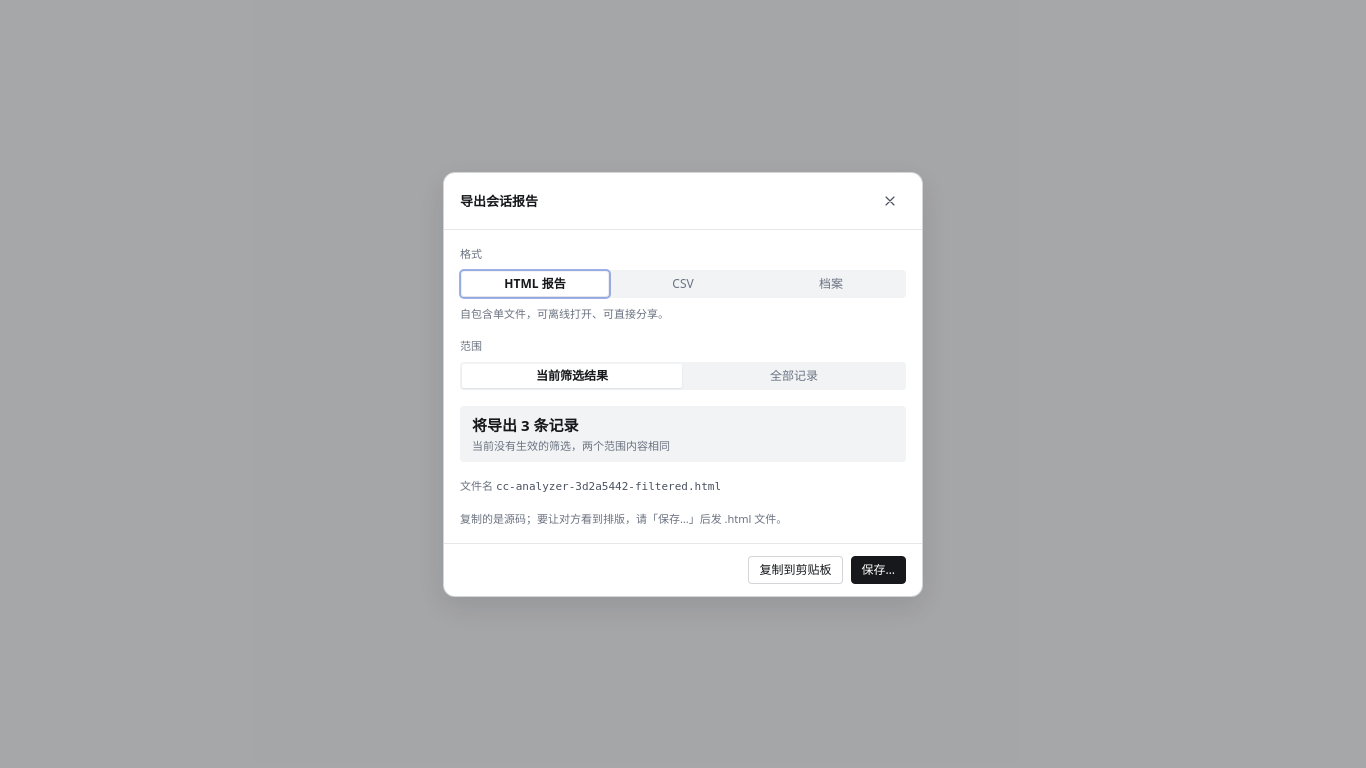
Test: copies the CSV without its BOM and confirms in place
This screenshot has width=1366, height=768.
What coordinates should you click on to do the following:
click the tab "CSV"
I would click on:
 (683, 284)
Its box is [610,272,756,296].
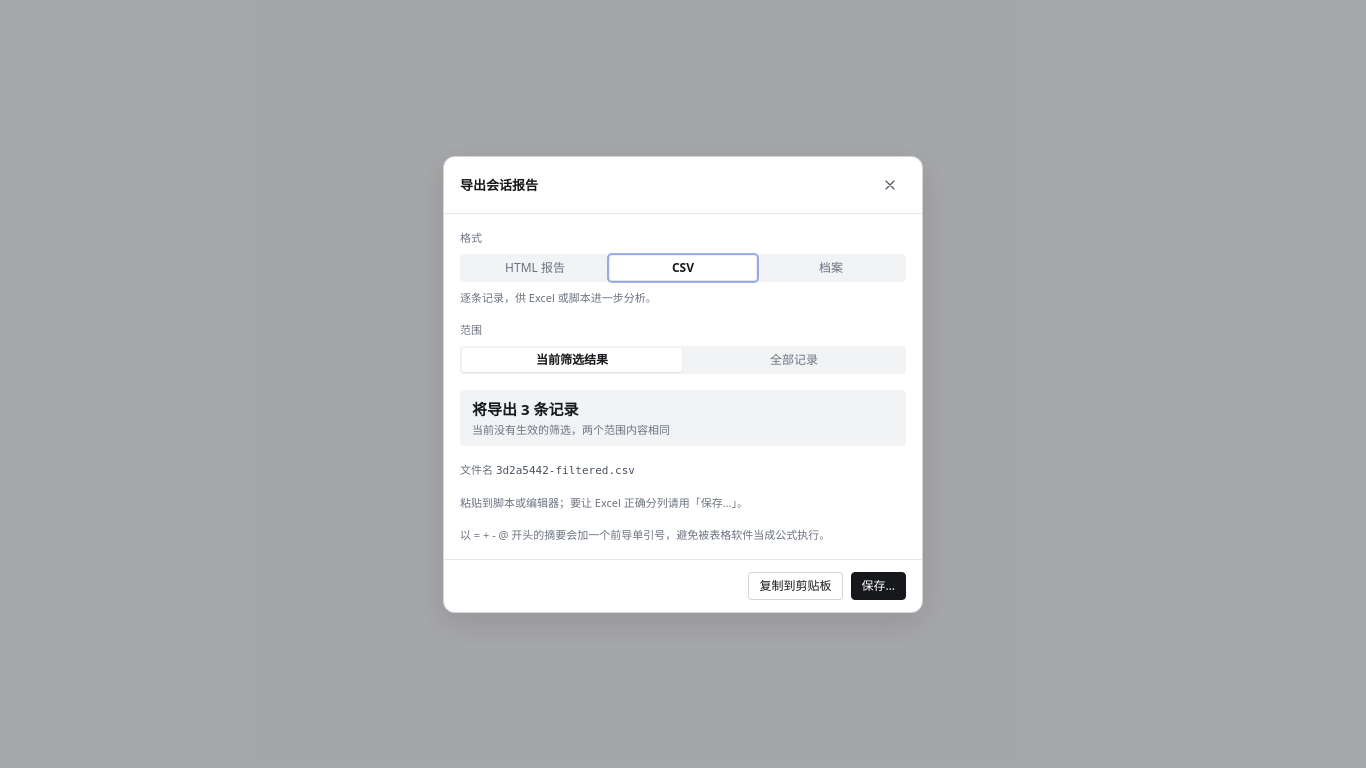
What coordinates should you click on to do the following:
click the button "复制到剪贴板"
I would click on:
 (796, 586)
Its box is [748,572,842,600].
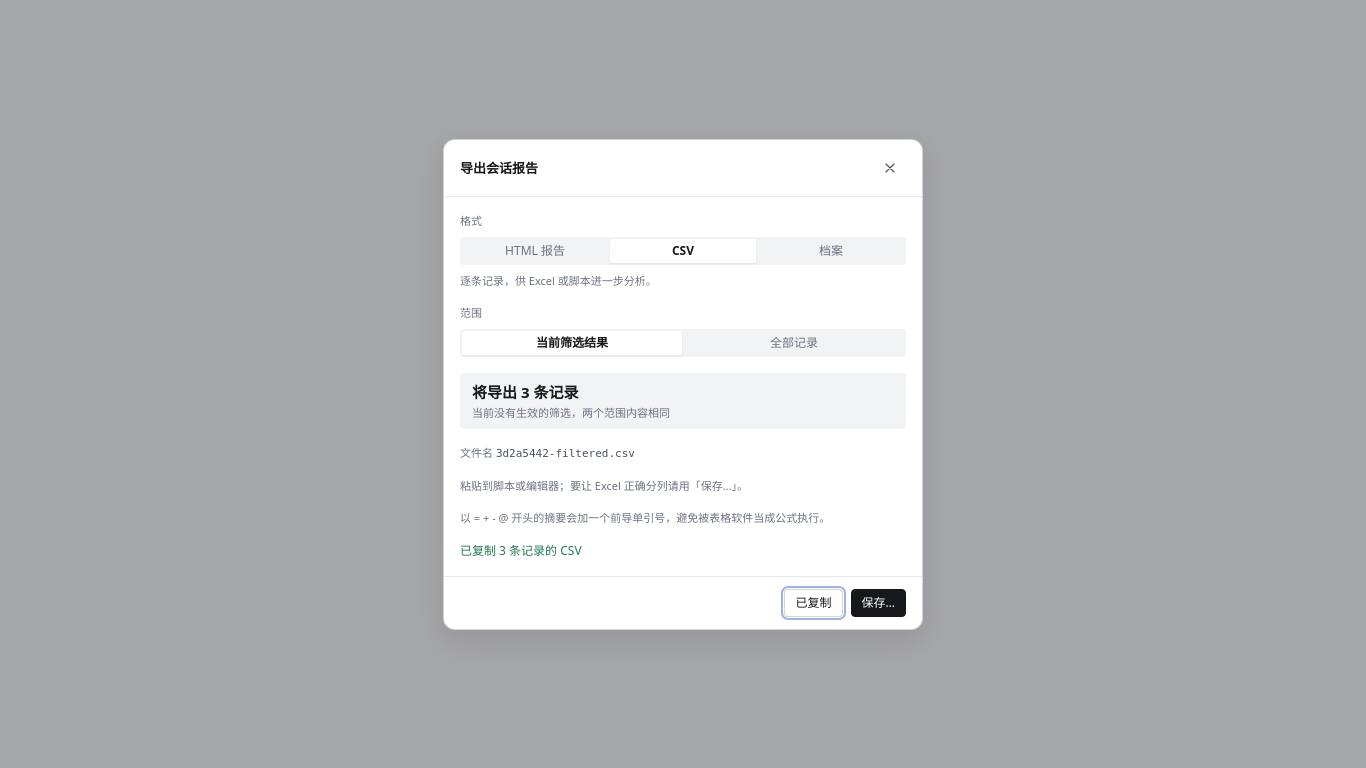
Expected: the dialog is shown, [443,138,923,630]
Expected: the button "已复制" is shown, [784,588,842,616]
Expected: the text "已复制 3 条记录的 CSV" is shown, [460,542,582,558]
